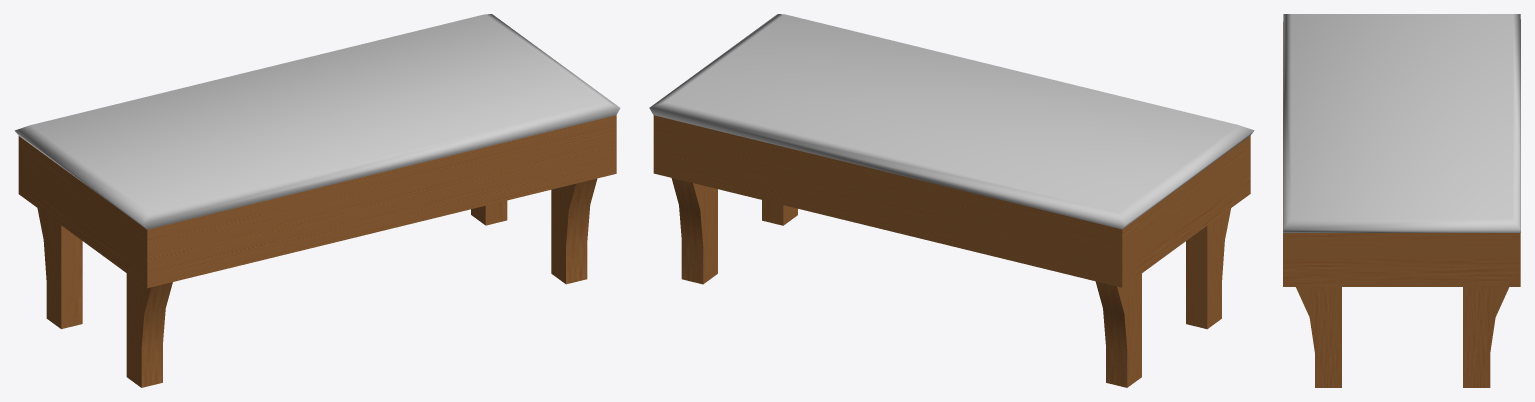
File: Piano_C_Bench.FBX
The picture shows the model from 3 angles, left to right: view 1: azimuth 30°, elevation 25°; view 2: azimuth 150°, elevation 25°; view 3: azimuth 270°, elevation 25°; orthographic projection. The views are drawn at different scales.
Parts seen in each view (by area): view 1: Bench_lid, Piano Bench; view 2: Bench_lid, Piano Bench; view 3: Bench_lid, Piano Bench.
Part boxes in pixels (left/top/right/bottom): Bench_lid: left=14, top=14, right=620, bottom=229; Piano Bench: left=18, top=115, right=616, bottom=387; Bench_lid: left=649, top=14, right=1254, bottom=229; Piano Bench: left=653, top=115, right=1250, bottom=387; Bench_lid: left=1283, top=14, right=1520, bottom=232; Piano Bench: left=1283, top=22, right=1520, bottom=387.
Size of the model in its own units: 214 by 79.26 by 99.76.
